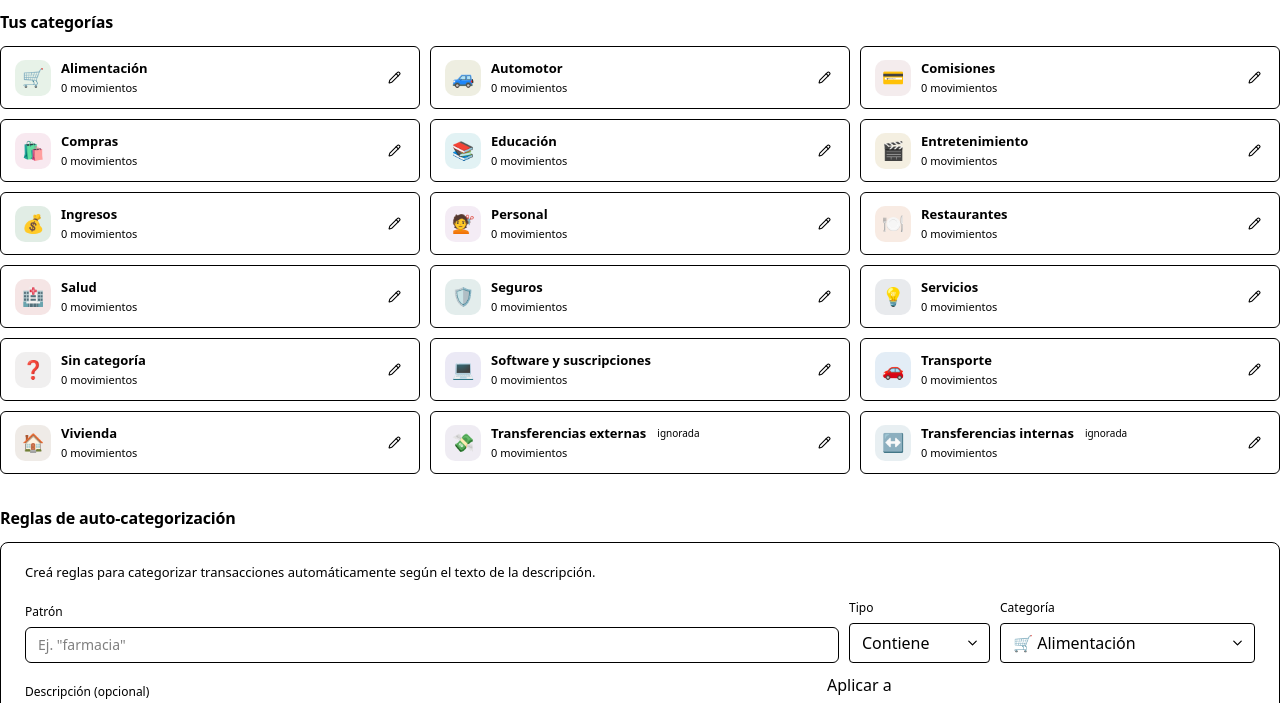
Scenario: Categories › says how many past transactions failed instead of claiming success
Type "farmashop" into the field with placeholder "Ej. \"farmacia\"". click: (432, 644)
box: [25, 626, 839, 662]
(page scrolled)
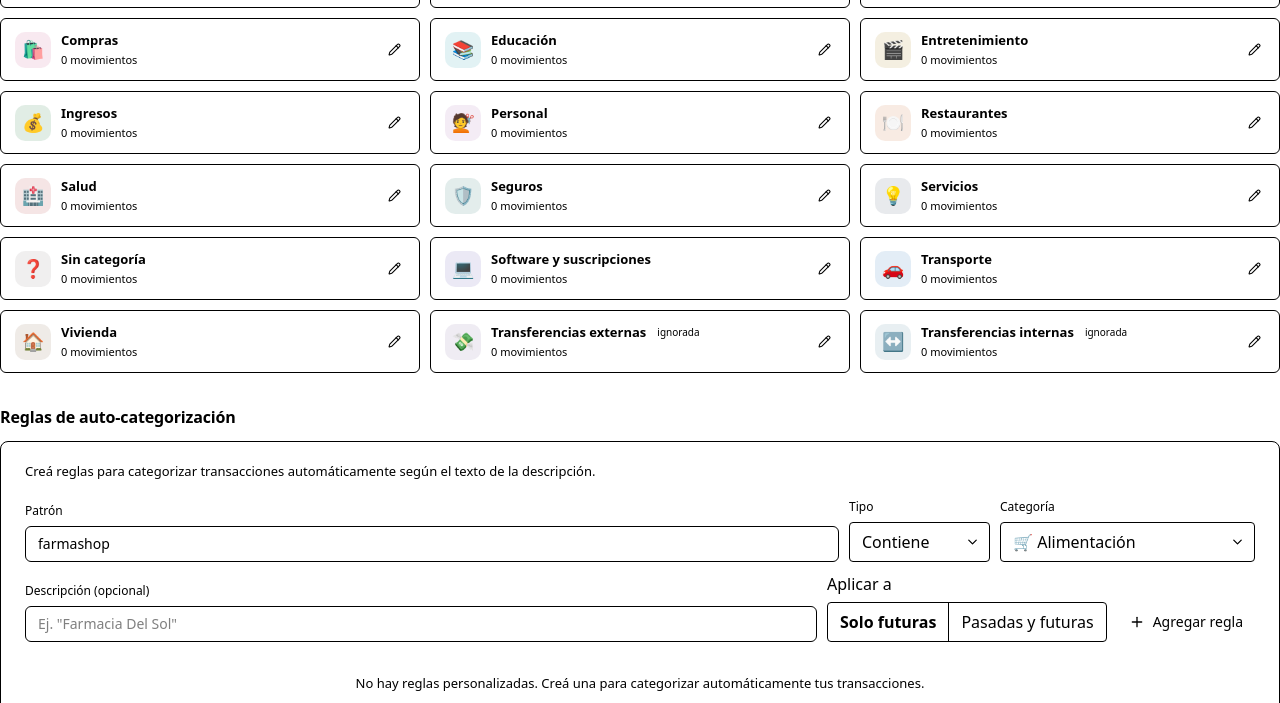
Click the radio button labelled "Pasadas y futuras". click: (1027, 622)
box: [948, 602, 1106, 640]
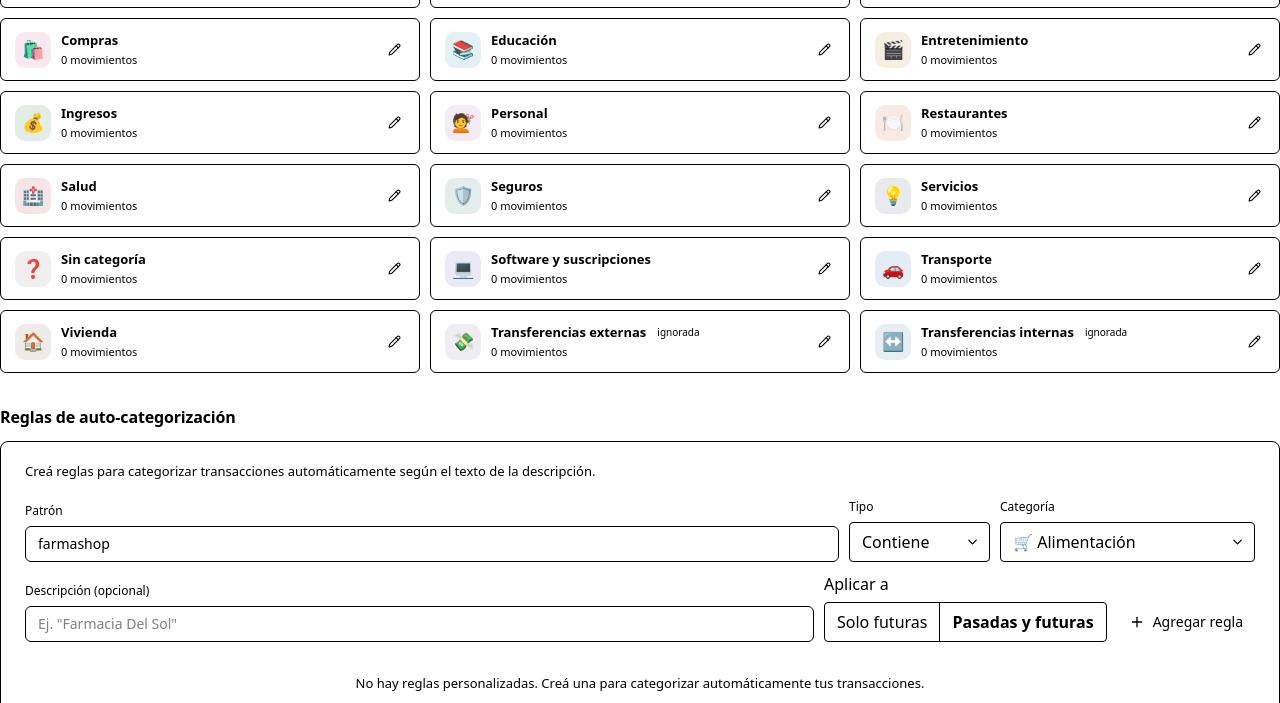
Click the button "Agregar regla". click: (1186, 622)
box: [1117, 602, 1255, 642]
(page scrolled)
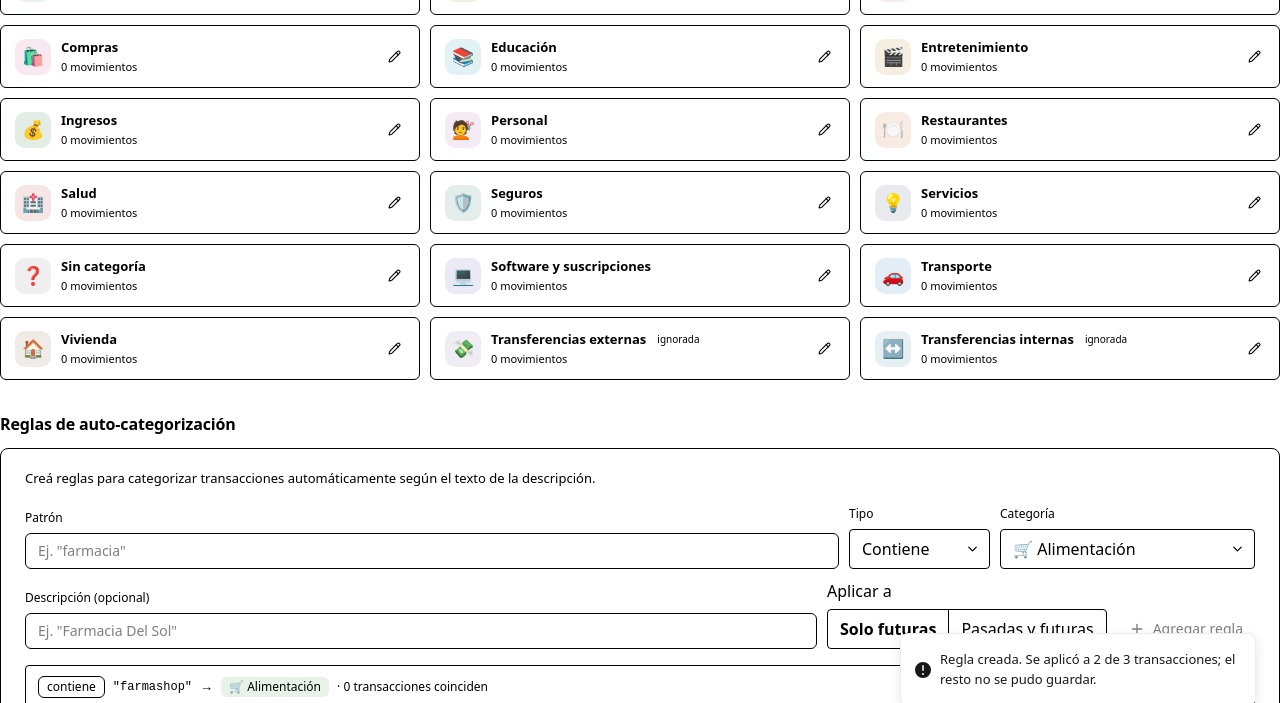
Check: the text "Se aplicó a 2 de 3 transacciones" is shown, box [940, 650, 1235, 688]
